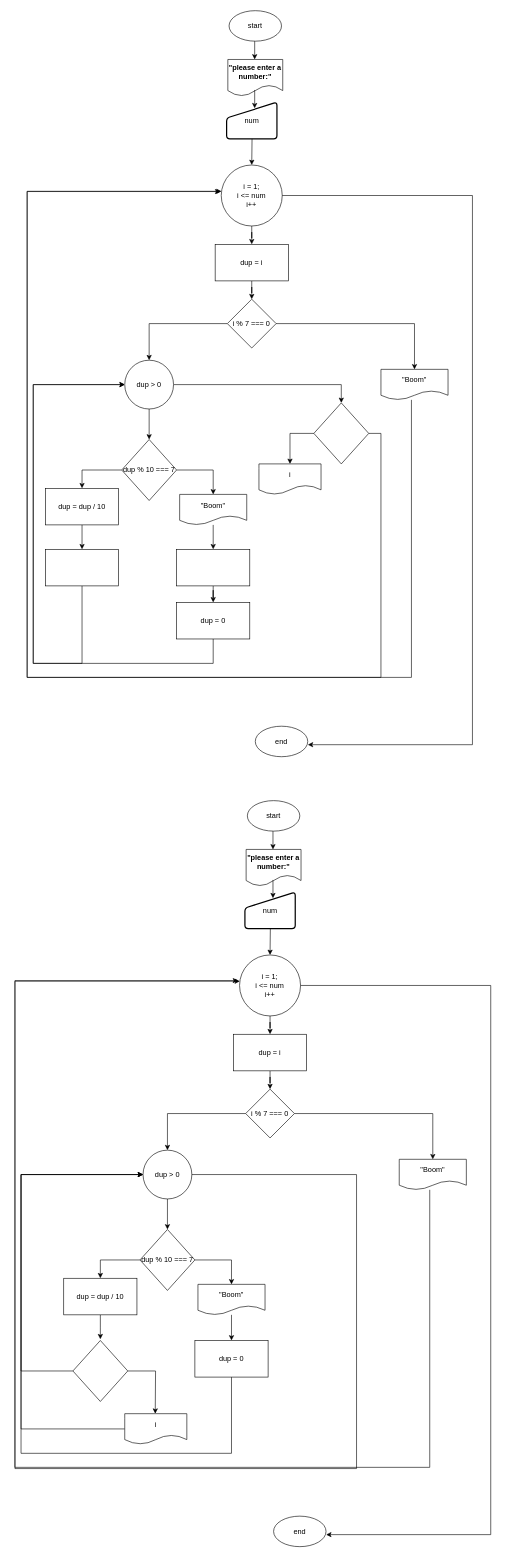
Some shapes in this 506 by 1557 pixel diagram are drawn without their labels. Here are the shapes that lost their labels. From the top down, the box of each, then its label:
(313, 402, 369, 464): help === 1
(45, 549, 119, 586): help = 2
(176, 549, 250, 586): help = 1
(72, 1340, 128, 1401): dup === 0
